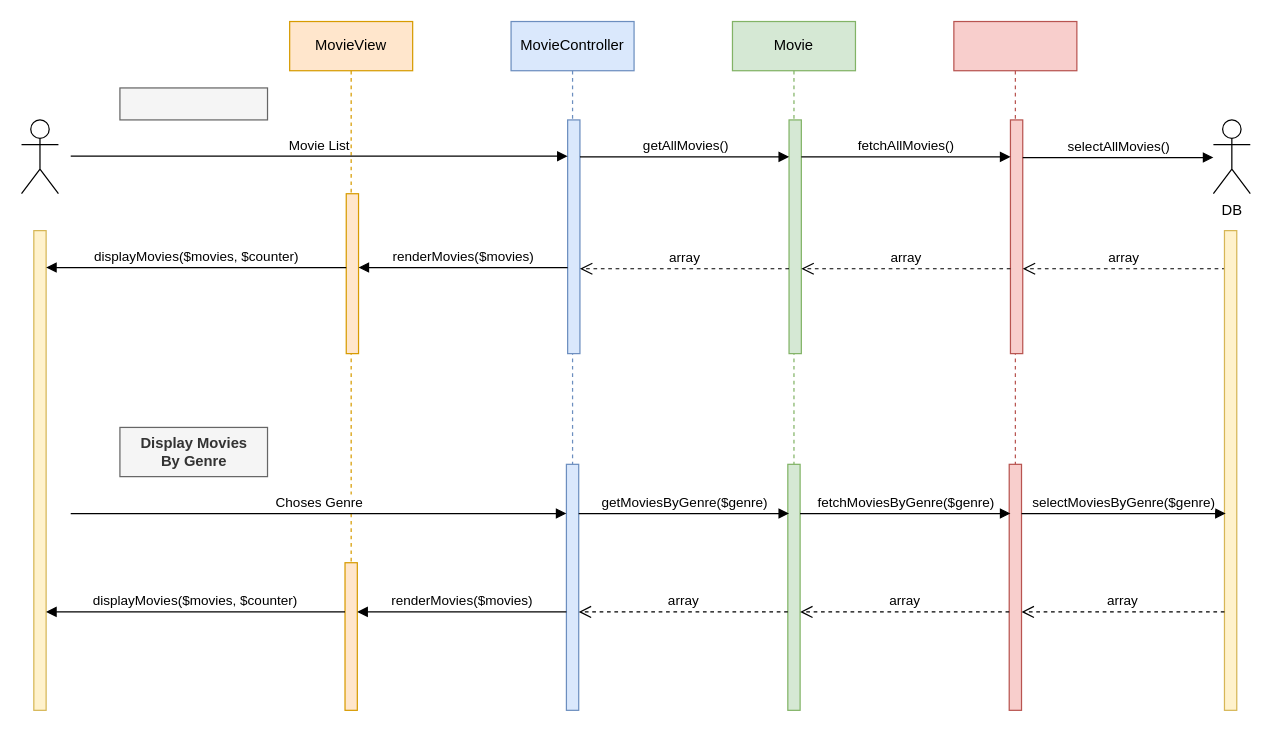
Some shapes in this 1272 by 732 pixel diagram are drawn without their labels. Each missing label, with the centre of its shape:
Client: the point at 39,156
Display All Movies: the point at 193,103
MovieRepository: the point at 1015,365
